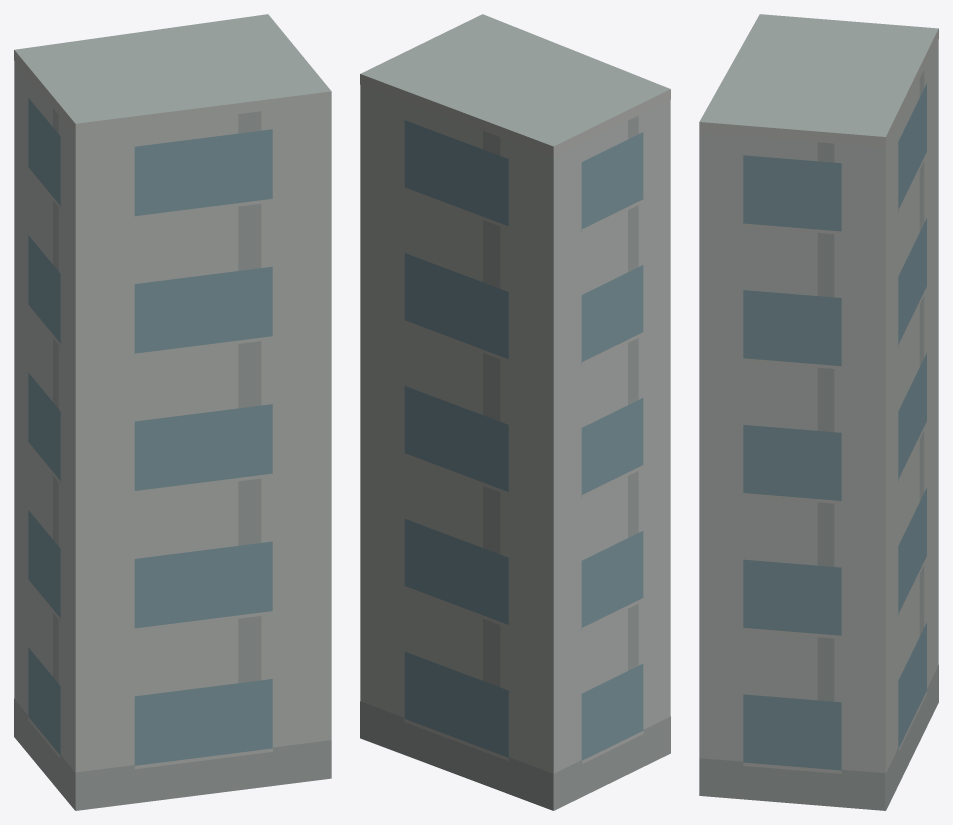
File: survey-upis-32509167.glb
3 views of the same model, side by side, from view 1: azimuth 30°, elevation 25°; view 2: azimuth 150°, elevation 25°; view 3: azimuth 270°, elevation 25° (orthographic). The views are drawn at different scales.
Visible parts, largest first — view 1: survey-upis-32509167.tmp; view 2: survey-upis-32509167.tmp; view 3: survey-upis-32509167.tmp.
Part boxes in pixels (x1,y1,x2,y2): survey-upis-32509167.tmp: (14, 14, 331, 810); survey-upis-32509167.tmp: (360, 14, 670, 810); survey-upis-32509167.tmp: (699, 14, 938, 810).
Bounding box in the file's own units: 5.98 × 15.25 × 4.92.
